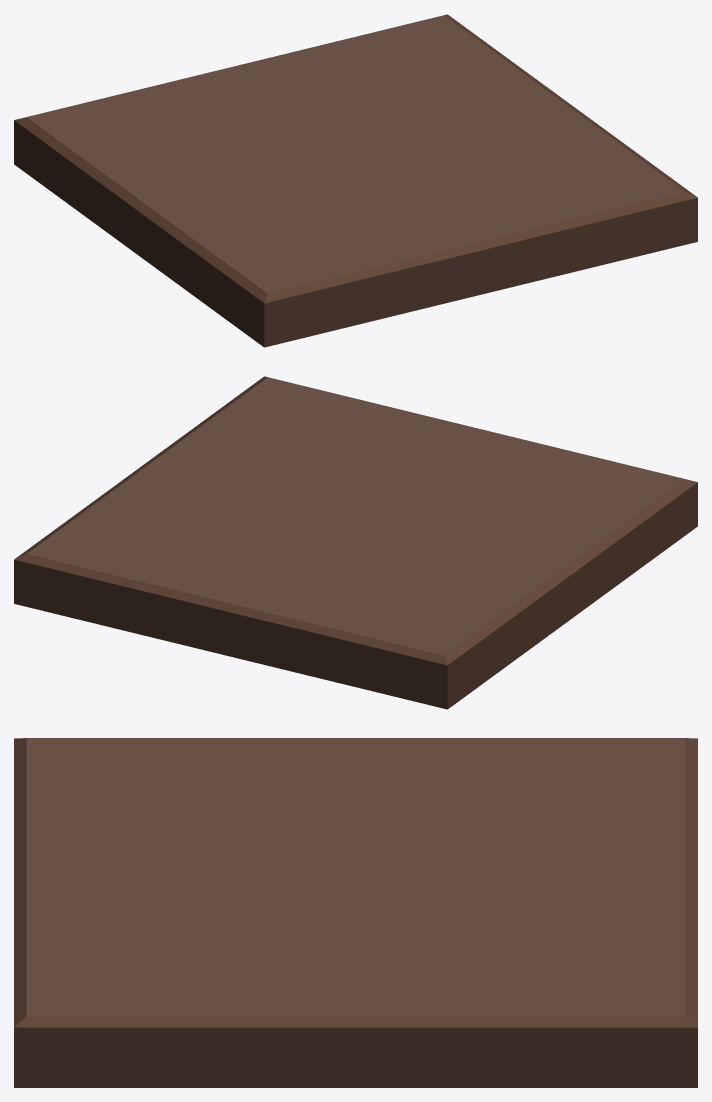
Rendered from Bottom_E1.fbx.
The picture shows the model from 3 angles, top to bottom: view 1: azimuth 30°, elevation 25°; view 2: azimuth 150°, elevation 25°; view 3: azimuth 270°, elevation 25°; orthographic projection. The views are drawn at different scales.
Visible parts, largest first — view 1: Bottom_E1; view 2: Bottom_E1; view 3: Bottom_E1.
Part boxes in pixels (x1,y1,x2,y2): Bottom_E1: (14, 14, 697, 347); Bottom_E1: (14, 376, 697, 709); Bottom_E1: (14, 738, 697, 1087).
Size of the model in its own units: 623 by 66.63 by 623.
